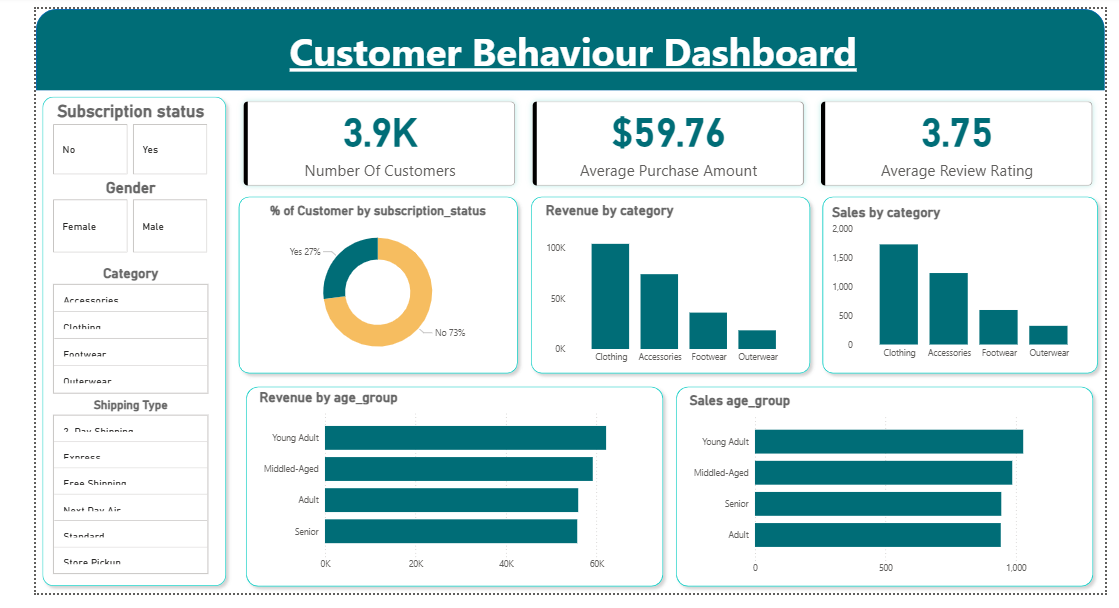

What the dashboard file says about the page in this screenshot:
{"tool":"powerbi","page":{"name":"Page 1","canvas":[1500,820],"ordinal":0},"visuals":[{"type":"cardVisual","fields":{"Data":["public customer.Number Of Customers","public customer.Average Purchase Amount","public customer.Average Review Rating"]},"box":[275.8,114.5,1224.2,150],"z":0},{"type":"shape","box":[0,0,1500,114.5],"z":1000},{"type":"shape","box":[275.8,254.8,409.7,266.1],"z":2000},{"type":"donutChart","title":"% of Customer by subscription_status","fields":{"Category":["public customer.subscription_status"],"Y":["CountNonNull(public customer.customer_id)"]},"box":[290.3,272.6,380.6,230.6],"z":3000},{"type":"shape","box":[1095.2,254.8,404.8,266.1],"z":4000},{"type":"shape","box":[685.5,254.8,409.7,266.1],"z":5000},{"type":"shape","box":[0,114.5,275.8,704.8],"z":6000},{"type":"clusteredColumnChart","title":"Revenue by category","fields":{"Y":["Sum(public customer.purchase_amount)"],"Category":["public customer.category"]},"box":[709.7,272.6,362.9,235.5],"z":7000},{"type":"clusteredColumnChart","title":"Sales by category","fields":{"Y":["CountNonNull(public customer.customer_id)"],"Category":["public customer.category"]},"box":[1112.9,274.2,371,227.4],"z":8000},{"type":"textbox","box":[138.7,17.7,1230.6,96.8],"z":9000},{"type":"advancedSlicerVisual","title":"Subscription status","fields":{"Values":["public customer.subscription_status"]},"box":[19.4,130.6,227.4,108.1],"z":10000},{"type":"advancedSlicerVisual","title":"Gender","fields":{"Values":["public customer.gender"]},"box":[19.4,238.7,227.4,108.1],"z":11000},{"type":"advancedSlicerVisual","title":"Category","fields":{"Values":["public customer.category"]},"box":[19.4,359.7,227.4,185.5],"z":12000},{"type":"advancedSlicerVisual","title":"Shipping Type","fields":{"Values":["public customer.shipping_type"]},"box":[19.4,545.2,227.4,253.2],"z":13000},{"type":"shape","box":[285.5,521,603.2,298.4],"z":14000},{"type":"clusteredBarChart","title":"Revenue by age_group","fields":{"Y":["Sum(public customer.purchase_amount)"],"Category":["public customer.age_group"]},"box":[308.1,533.9,556.5,264.5],"z":15000},{"type":"shape","box":[890.3,521,603.2,298.4],"z":16000},{"type":"clusteredBarChart","title":"Sales age_group","fields":{"Y":["CountNonNull(public customer.customer_id)"],"Category":["public customer.age_group"]},"box":[912.9,538.7,556.5,264.5],"z":17000}]}

Visuals, with their boxes in screenshot pixels (x1, y1, x2, y2), scaled from the page's 1500x820 canvas onto the 1119x608 screenshot:
cardVisual - public customer.Number Of Customers x public customer.Average Purchase Amount: locate(206, 85, 1118, 196)
shape: locate(0, 0, 1118, 85)
shape: locate(206, 189, 511, 386)
"% of Customer by subscription_status" donutChart: locate(217, 202, 500, 373)
shape: locate(817, 189, 1118, 386)
shape: locate(511, 189, 817, 386)
shape: locate(0, 85, 206, 607)
"Revenue by category" clusteredColumnChart: locate(529, 202, 800, 377)
"Sales by category" clusteredColumnChart: locate(830, 203, 1107, 372)
textbox: locate(103, 13, 1021, 85)
"Subscription status" advancedSlicerVisual: locate(14, 97, 184, 177)
"Gender" advancedSlicerVisual: locate(14, 177, 184, 257)
"Category" advancedSlicerVisual: locate(14, 267, 184, 404)
"Shipping Type" advancedSlicerVisual: locate(14, 404, 184, 592)
shape: locate(213, 386, 663, 607)
"Revenue by age_group" clusteredBarChart: locate(230, 396, 645, 592)
shape: locate(664, 386, 1114, 607)
"Sales age_group" clusteredBarChart: locate(681, 399, 1096, 596)
